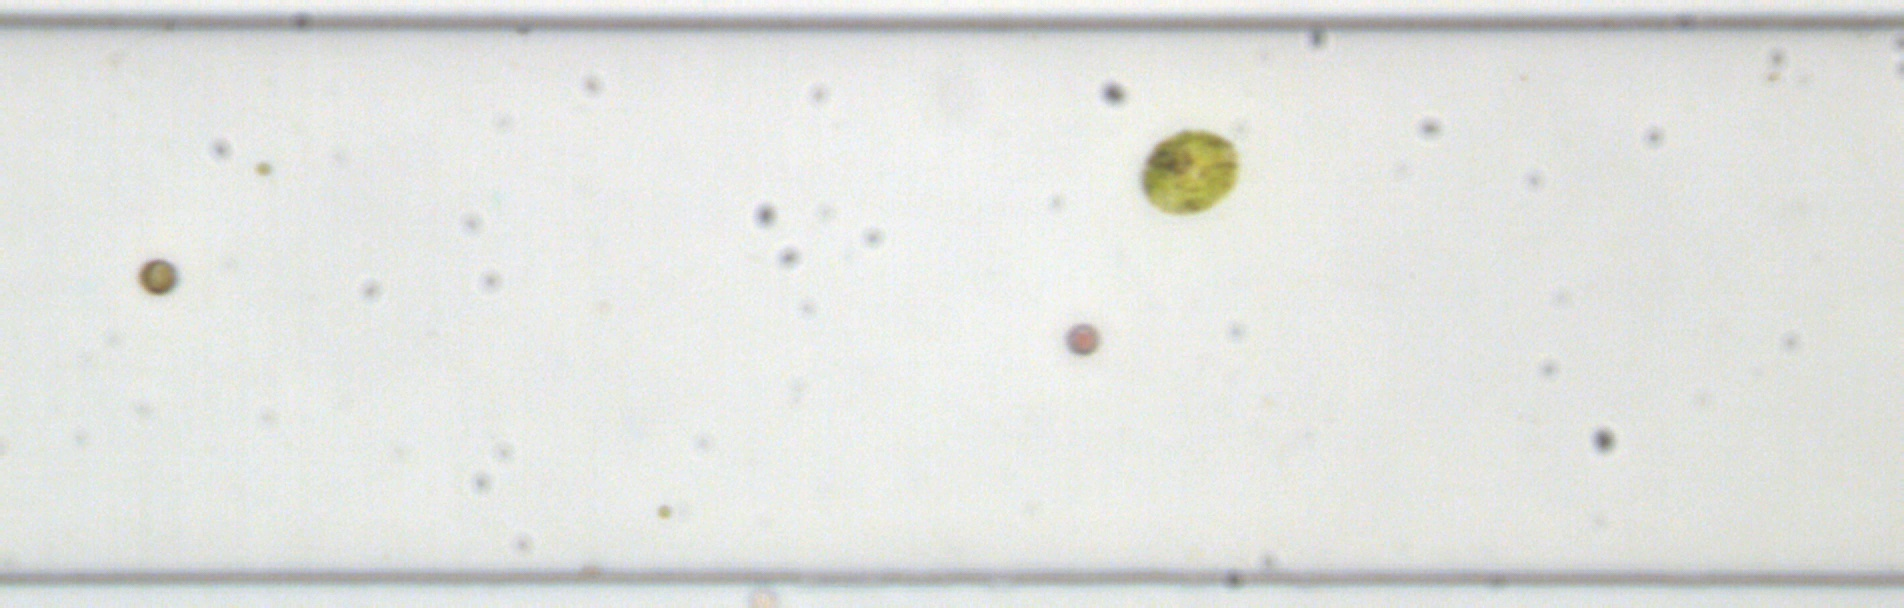Chlorella: (254, 159, 272, 176), (654, 502, 673, 519)
Effrenium: (137, 256, 177, 295)
Haematococcus: (1134, 125, 1243, 218)
Porphyridium: (1062, 320, 1101, 358)
